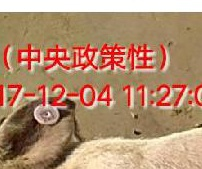text: (25, 96, 69, 133)
